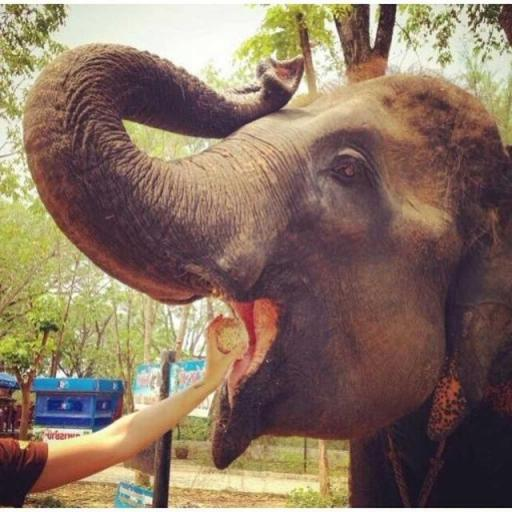Elephant: (21, 40, 511, 507)
